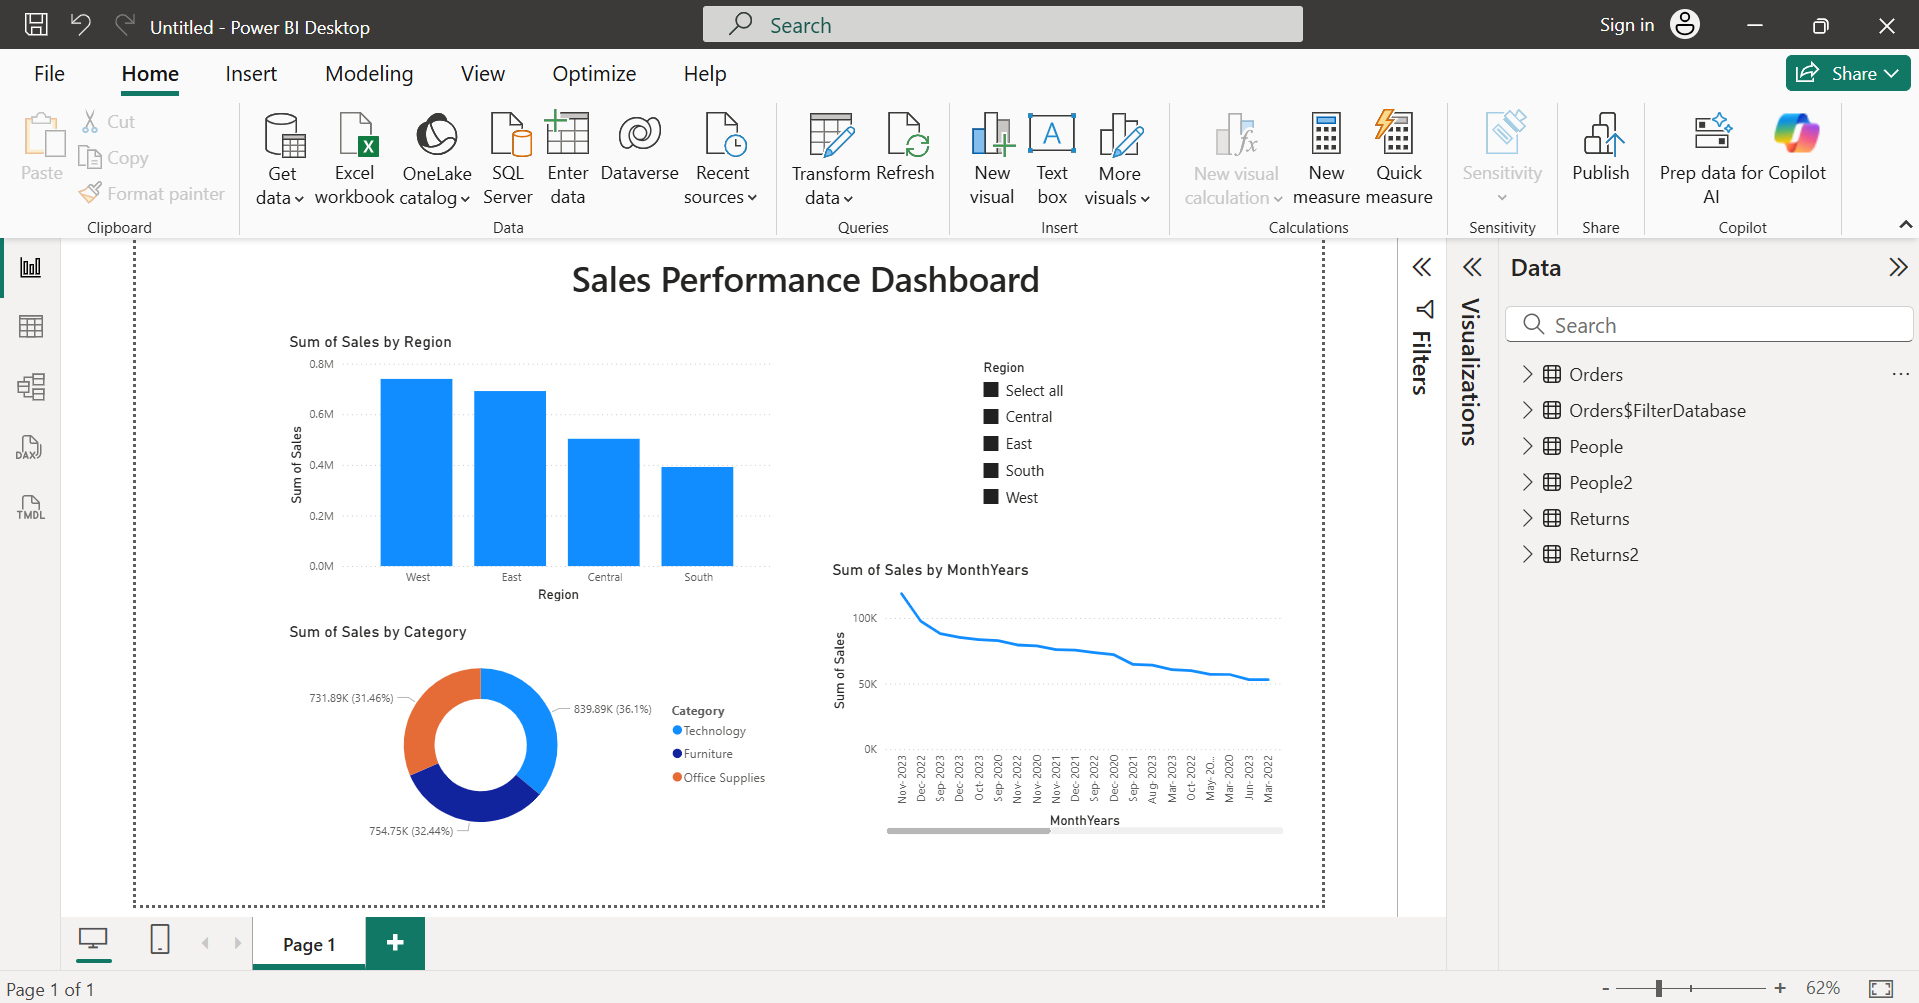

The dashboard page shown, as its layout file describes it:
{"tool":"powerbi","page":{"name":"Page 1","canvas":[1280,720],"ordinal":0},"visuals":[{"type":"clusteredColumnChart","fields":{"Category":["Orders.Region"],"Y":["Sum(Orders.Sales)"]},"box":[160.6,102,532.9,294.8],"z":0},{"type":"donutChart","fields":{"Y":["Sum(Orders.Sales)"],"Category":["Orders.Category"]},"box":[160.6,413.9,532.9,245.7],"z":1},{"type":"slicer","fields":{"Values":["Orders.Region"]},"box":[901.4,126.6,342,179.5],"z":2},{"type":"lineChart","fields":{"Category":["Orders.MonthYears"],"Y":["Sum(Orders.Sales)"]},"box":[746.5,347.7,497,300.5],"z":3},{"type":"textbox","box":[427.1,13.2,591.5,69.9],"z":4}]}

Visuals, with their boxes on the page's 1280x720 design canvas (x1, y1, x2, y2). These are canvas units, not pixel positions in the 1919x1003 screenshot, which may show the page scaled, cropped or inside an application window:
clusteredColumnChart - Orders.Region x Sum(Orders.Sales): {"x1": 161, "y1": 102, "x2": 694, "y2": 397}
donutChart - Sum(Orders.Sales) x Orders.Category: {"x1": 161, "y1": 414, "x2": 694, "y2": 660}
slicer - Orders.Region: {"x1": 901, "y1": 127, "x2": 1243, "y2": 306}
lineChart - Orders.MonthYears x Sum(Orders.Sales): {"x1": 746, "y1": 348, "x2": 1244, "y2": 648}
textbox: {"x1": 427, "y1": 13, "x2": 1019, "y2": 83}
